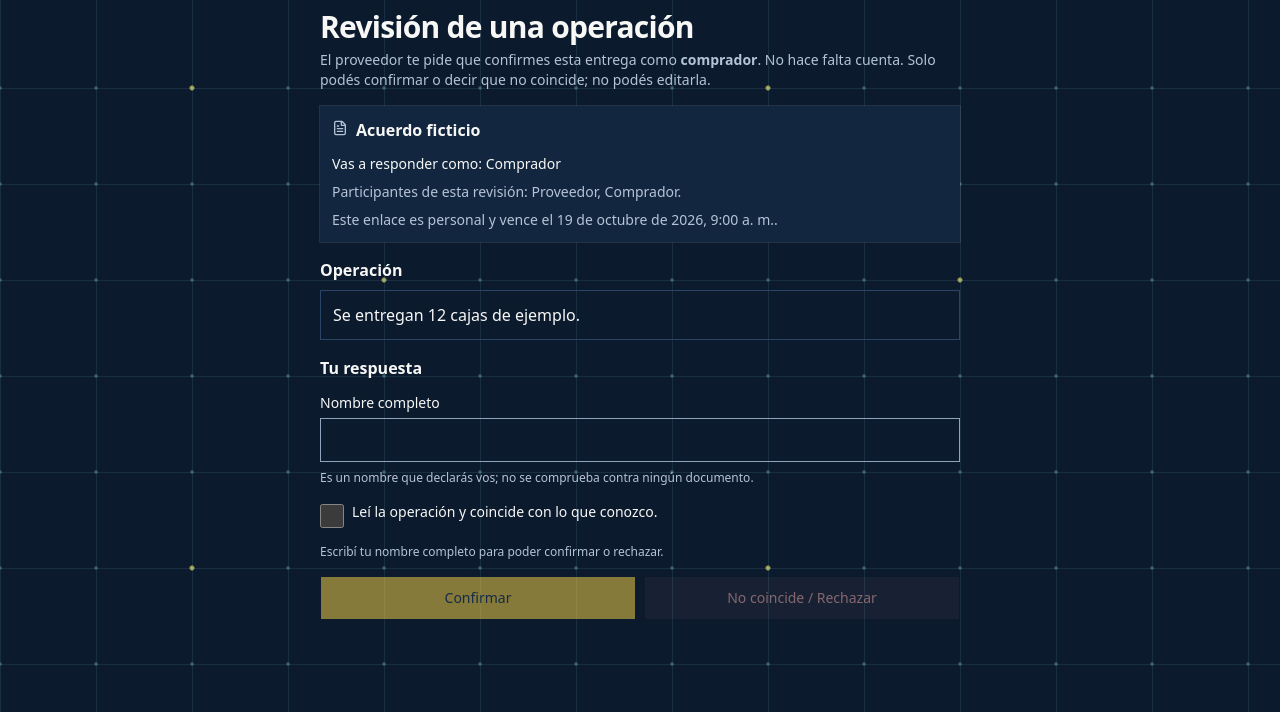
it: ConfirmationContainer › un fallo de red permite reintentar con la misma clave y no duplica
Type "Juan Pérez" into the field labelled "Nombre completo" at (640, 440), box x1=320 y1=418 x2=960 y2=462
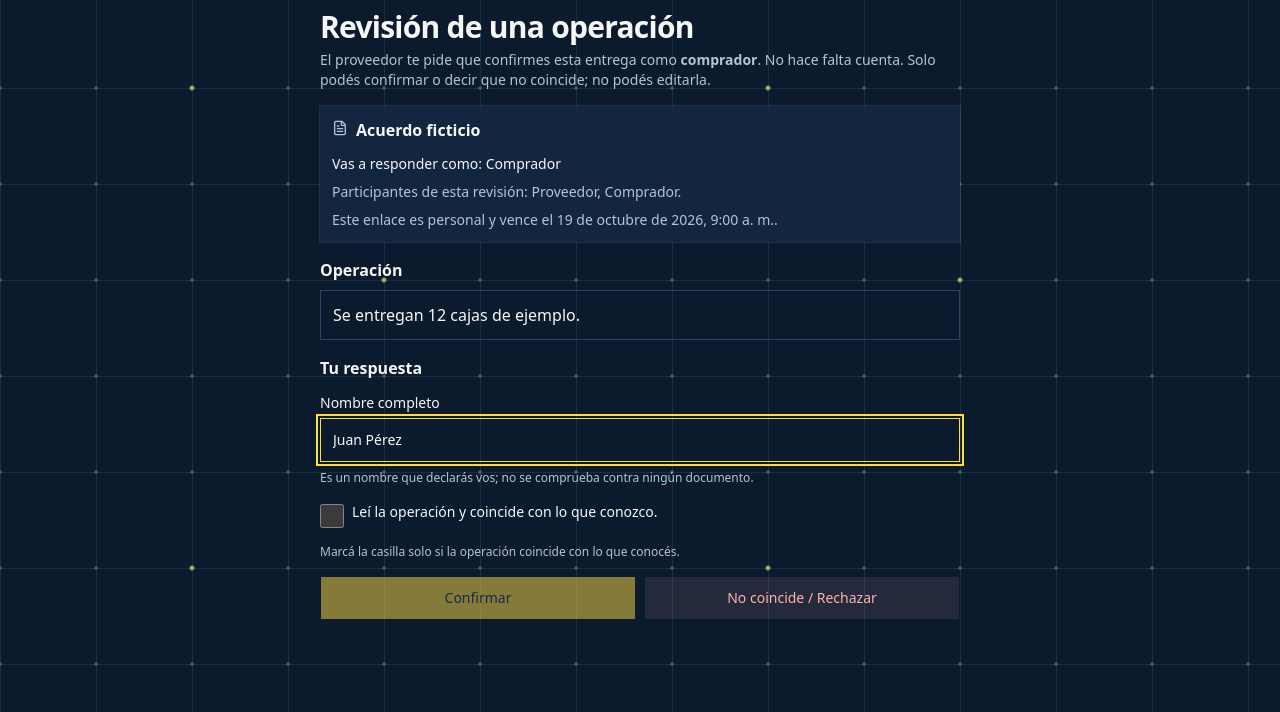
Click the checkbox at (332, 516), box x1=320 y1=504 x2=344 y2=528
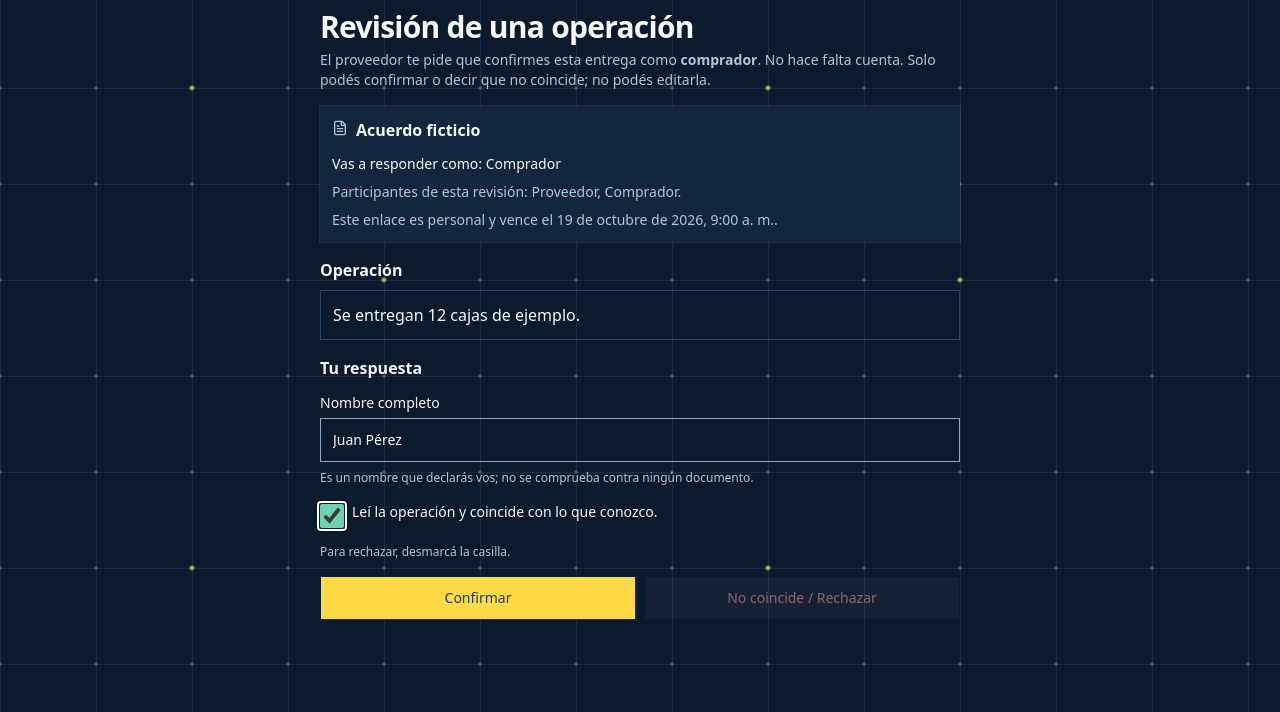
Click the button "Confirmar" at (478, 598), box x1=320 y1=576 x2=636 y2=620
(page scrolled)
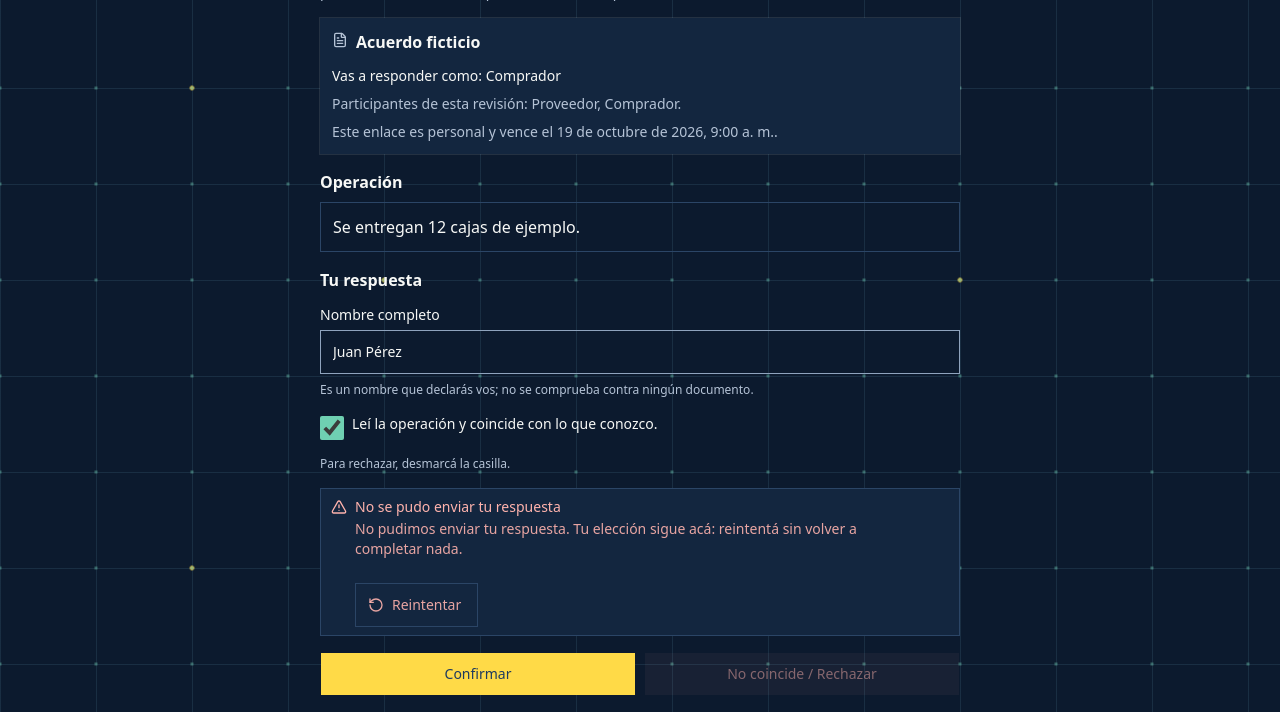
Now the message shows "No pudimos enviar tu respuesta", box x1=355 y1=518 x2=857 y2=558
Click the button "Reintentar" at (417, 604), box x1=355 y1=582 x2=478 y2=626
(page scrolled)
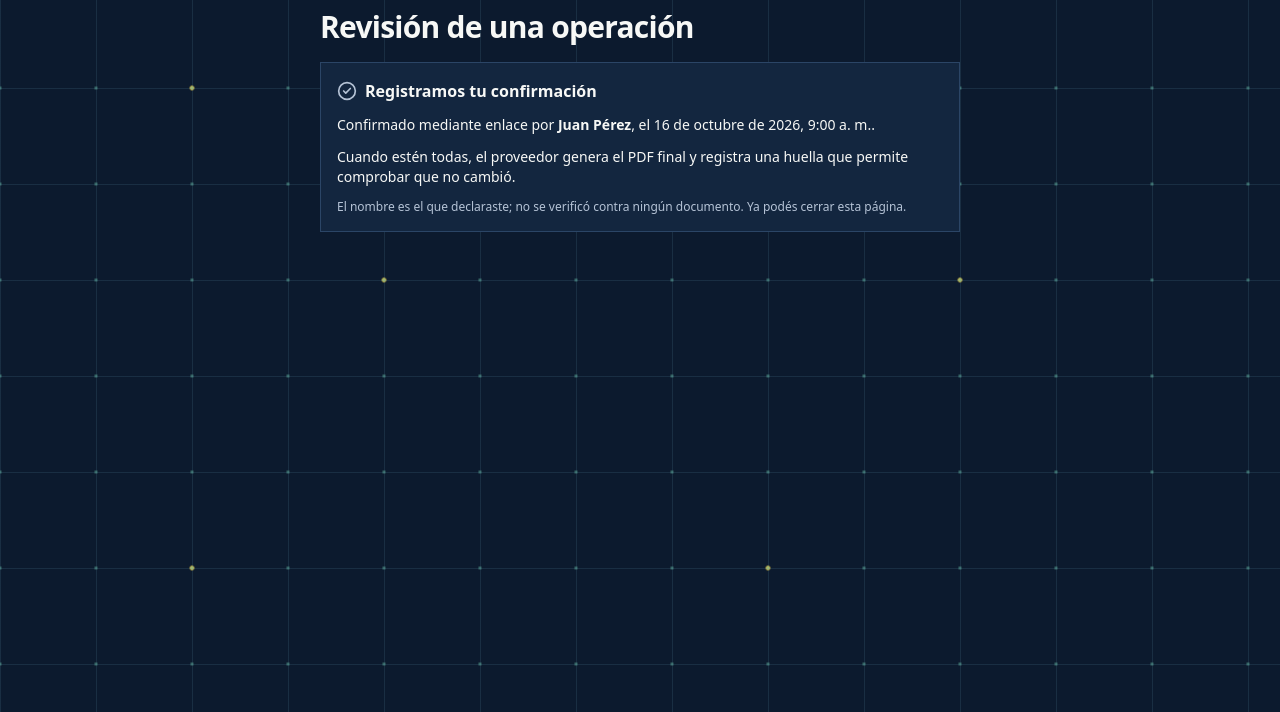
Now the text "Registramos tu confirmación" is shown, box x1=337 y1=80 x2=597 y2=102
